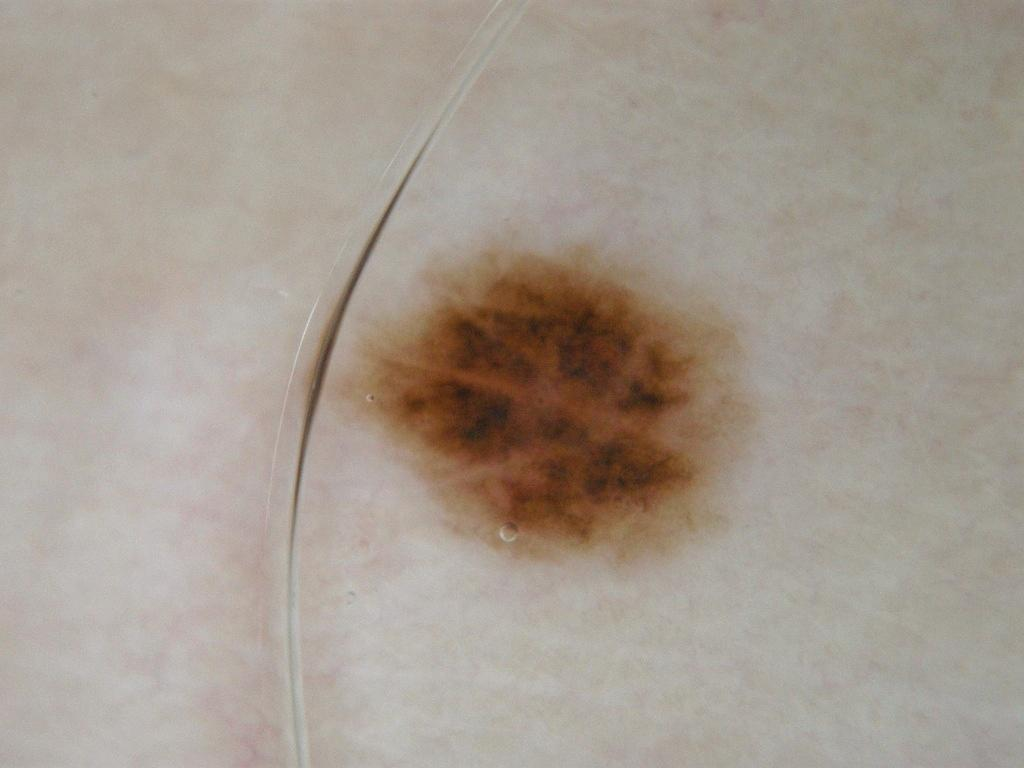Detected Lesion: (340, 244, 755, 559)
